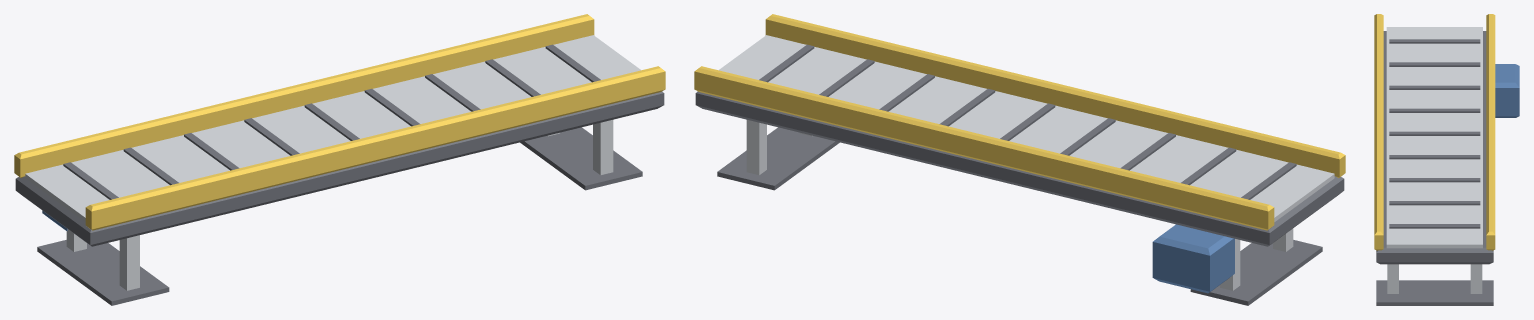
File: airport-terminal-and-ground-operations-baggage-belt-mo-c0ca14ec__26053.glb
3 views of the same model, side by side, from view 1: azimuth 30°, elevation 25°; view 2: azimuth 150°, elevation 25°; view 3: azimuth 270°, elevation 25° (orthographic). The views are drawn at different scales.
Visible parts, largest first — view 1: baggage-belt-module; view 2: baggage-belt-module; view 3: baggage-belt-module.
Boxes of the visible parts, box(x1,y1,x2,y2) form: baggage-belt-module: box(14, 14, 665, 305); baggage-belt-module: box(694, 14, 1345, 305); baggage-belt-module: box(1374, 14, 1519, 305).
Size of the model in its own units: 4 by 0.6901 by 1.11.
